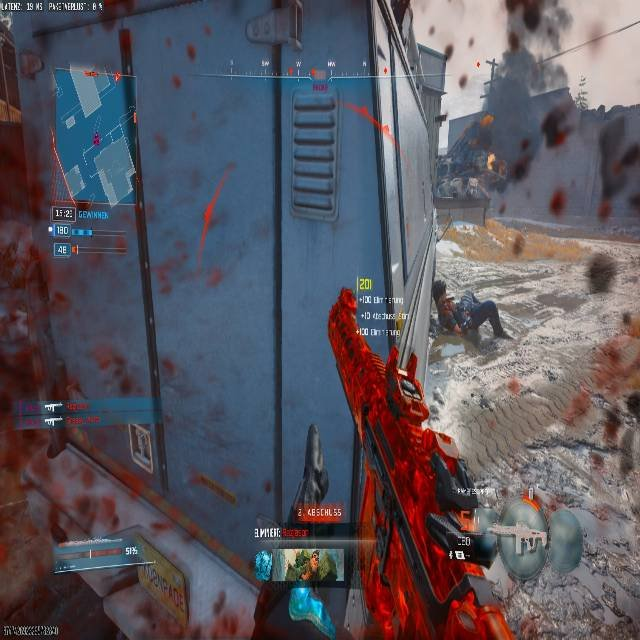head: (463, 288, 475, 299)
player: (454, 287, 505, 344)
